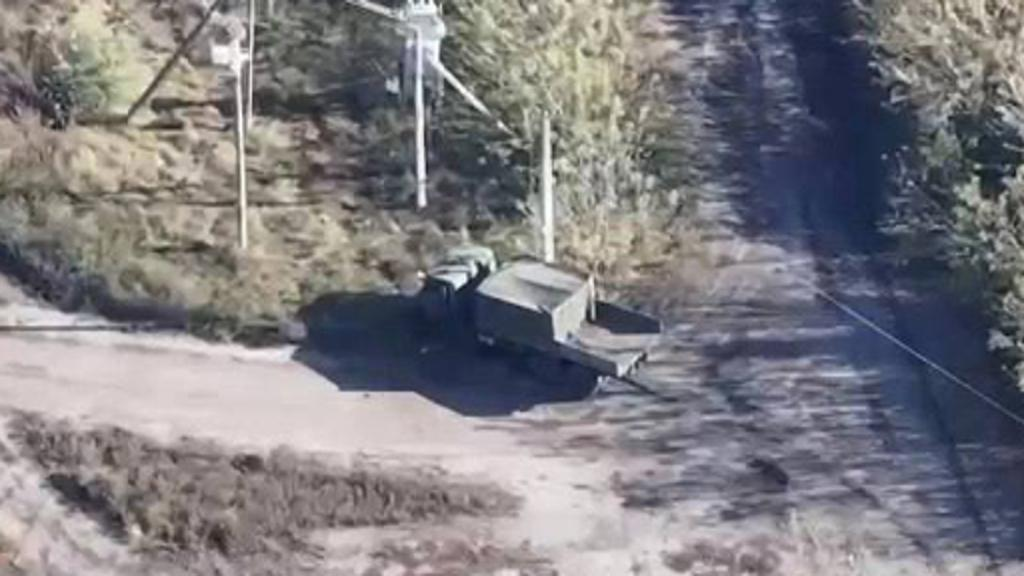TRUCK: (418, 245, 664, 392)
